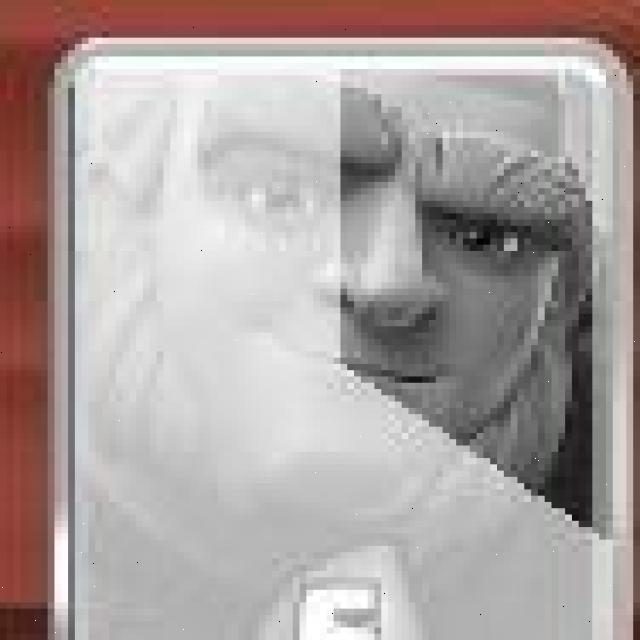Giant: (50, 37, 630, 640)
